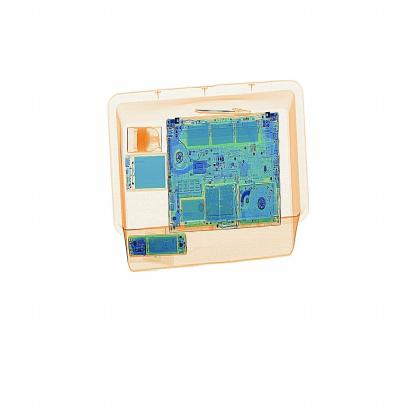wrench: (192, 102, 264, 120)
